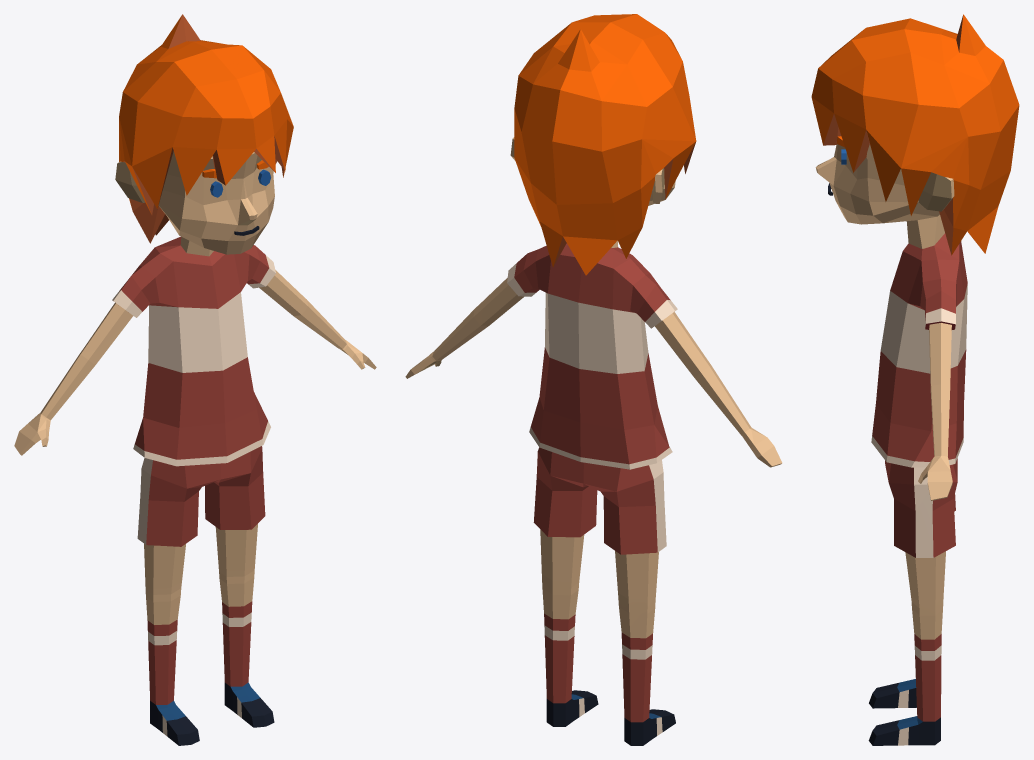
Rendered from running.glb.
3 views of the same model, side by side, from view 1: azimuth 30°, elevation 25°; view 2: azimuth 150°, elevation 25°; view 3: azimuth 270°, elevation 25° (orthographic). The views are drawn at different scales.
Parts seen in each view (by area): view 1: obj1, obj3, obj2; view 2: obj1, obj3, obj2; view 3: obj1, obj3, obj2.
Part boxes in pixels (<box>): obj1: <box>40,236,346,745</box>; obj3: <box>119,14,293,243</box>; obj2: <box>14,151,376,455</box>; obj1: <box>432,240,751,745</box>; obj3: <box>514,14,696,275</box>; obj2: <box>405,137,782,467</box>; obj1: <box>868,215,967,745</box>; obj3: <box>811,14,1019,255</box>; obj2: <box>815,144,954,500</box>.
Size of the model in its own units: 85.72 by 158 by 42.08.
1 material, 1 textured.
